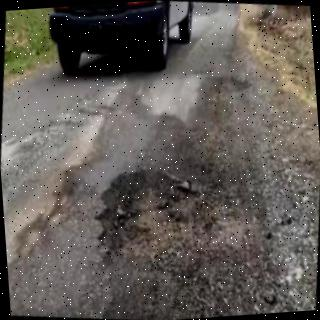pothole: (97, 172, 215, 265)
